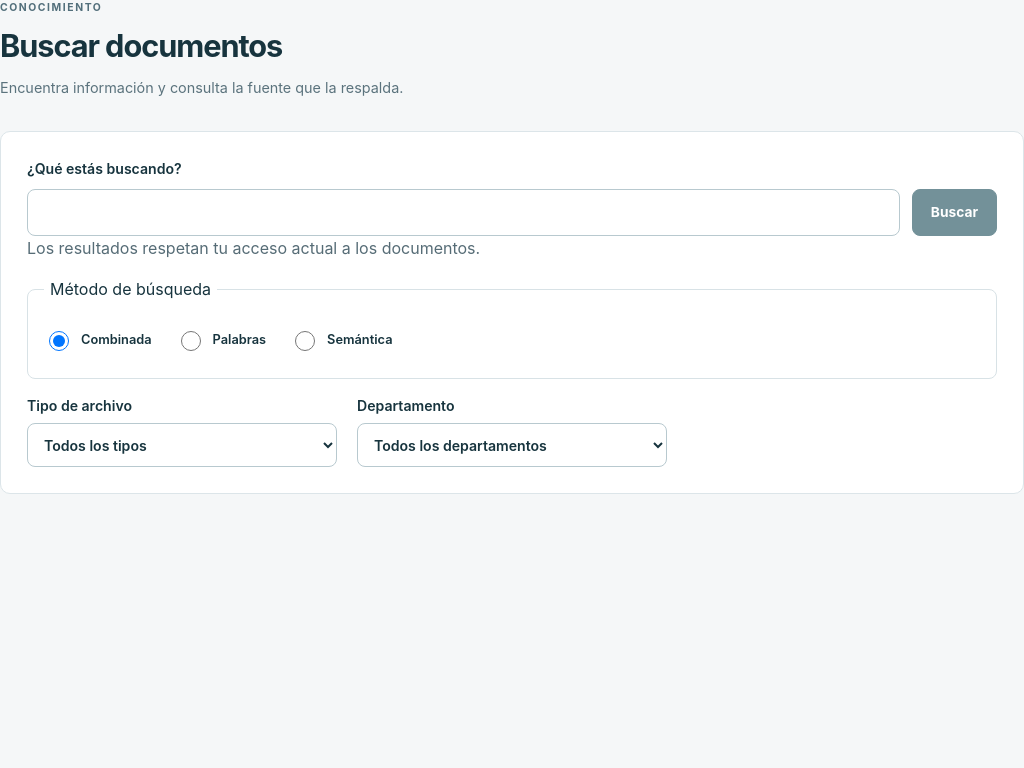
Test case: removes earlier results when a later search fails
Type "viajes" into the search field.
click(463, 212); type("viajes")  # box [27,189,900,236]
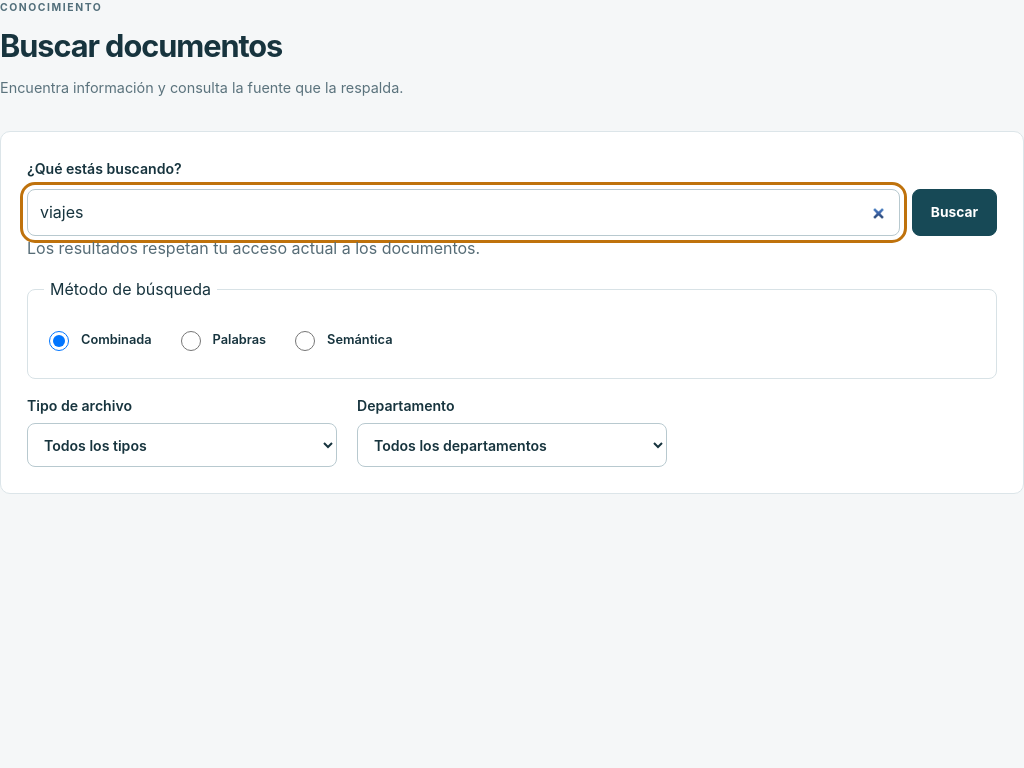
Click the button "Buscar".
click(954, 212)  # box [912,189,997,236]
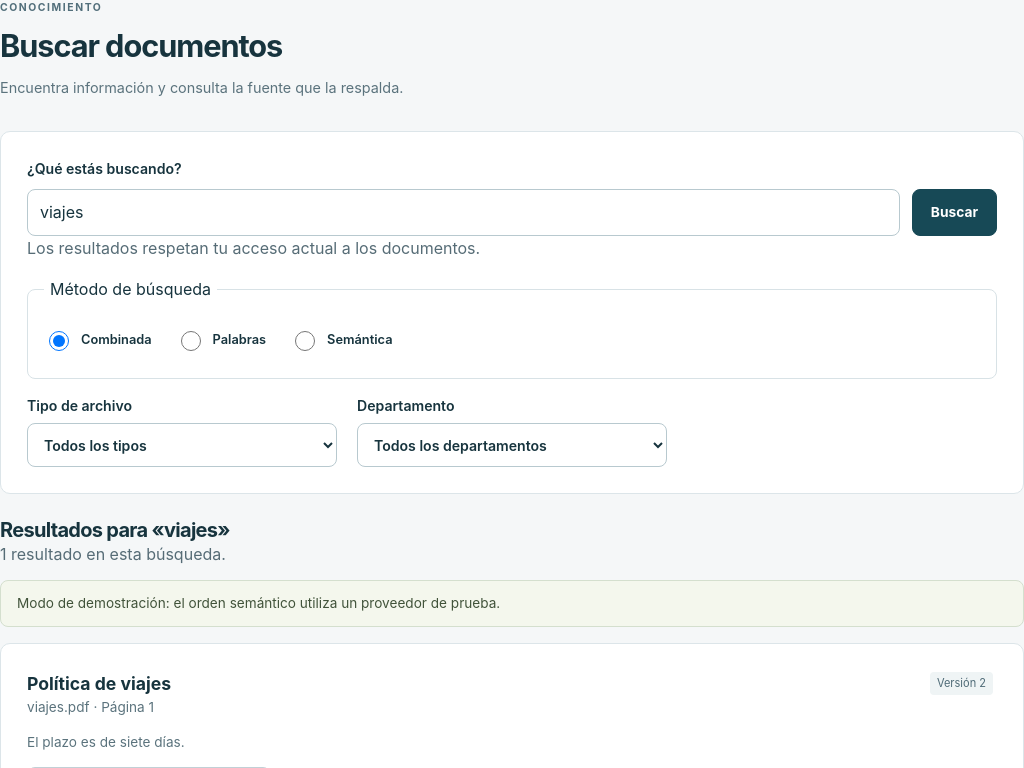
Result: the text "El plazo es de siete días." is shown at [27,734,185,750]
Click the button "Buscar".
click(954, 212)  # box [912,189,997,236]
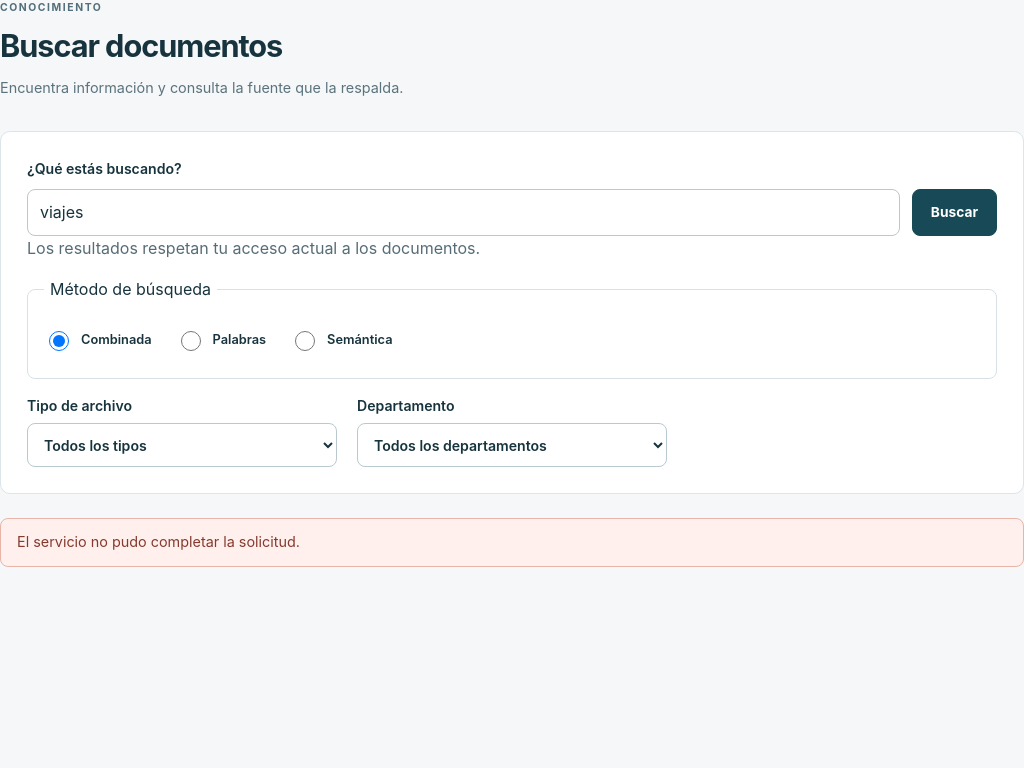
Result: the button "Buscar" is enabled at [912,189,997,236]
Result: the message reads "El servicio no pudo completar la solicitud." at [17,533,300,550]
Result: the text "El plazo es de siete días." is gone
